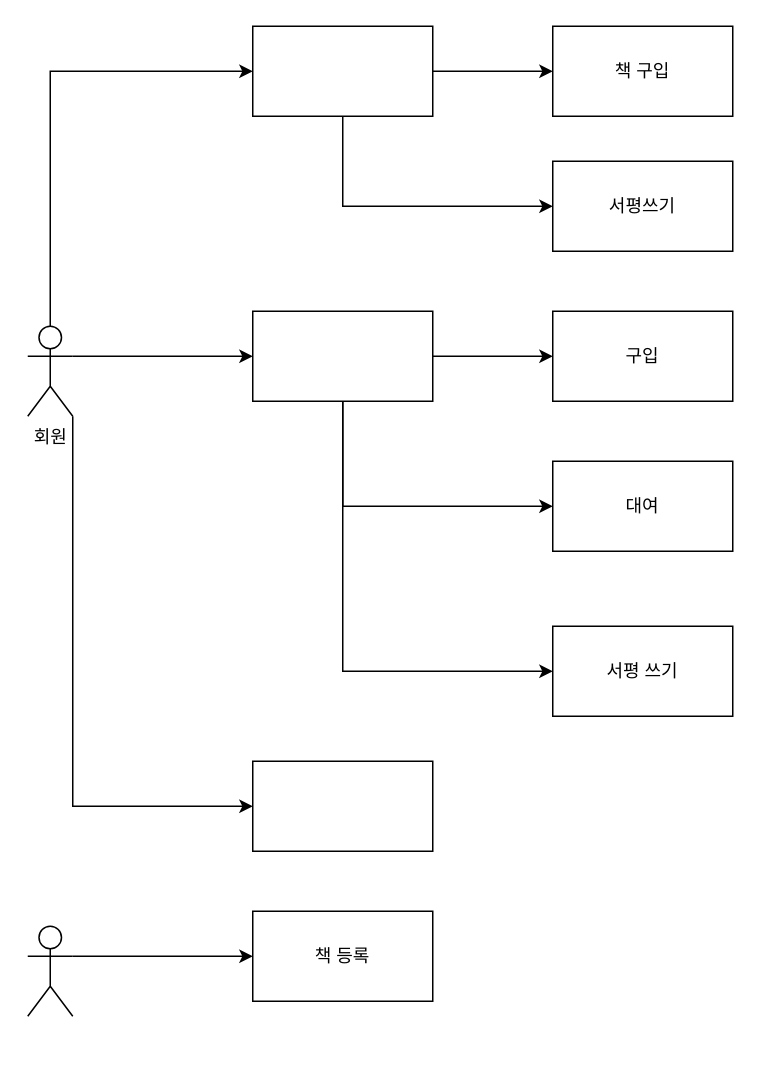
Some shapes in this 759 by 1074 pixel diagram are drawn without their labels. Here are the shapes that lost their labels. From the top down, the centre of each, then its label:
At pixel 342 70: "종이책 목록 보기".
At pixel 342 355: "E북 목록 보기".
At pixel 342 805: "구입 목록 보기".
At pixel 49 970: "관리자".
